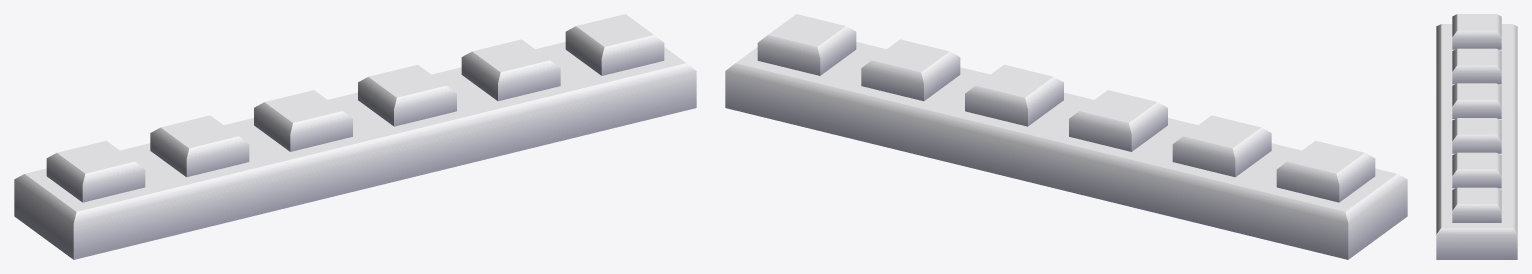
Rendered from square-hq-plate-1x6.glb.
3 views of the same model, side by side, from view 1: azimuth 30°, elevation 25°; view 2: azimuth 150°, elevation 25°; view 3: azimuth 270°, elevation 25° (orthographic). The views are drawn at different scales.
Visible parts, largest first — view 1: square-hq-plate-1x6; view 2: square-hq-plate-1x6; view 3: square-hq-plate-1x6.
Boxes of the visible parts, x1=… form: square-hq-plate-1x6: x1=14, y1=14, x2=696, y2=259; square-hq-plate-1x6: x1=725, y1=14, x2=1407, y2=259; square-hq-plate-1x6: x1=1436, y1=14, x2=1517, y2=259.
Size of the model in its own units: 0.477 by 0.05 by 0.079.
1 material, 1 textured.
